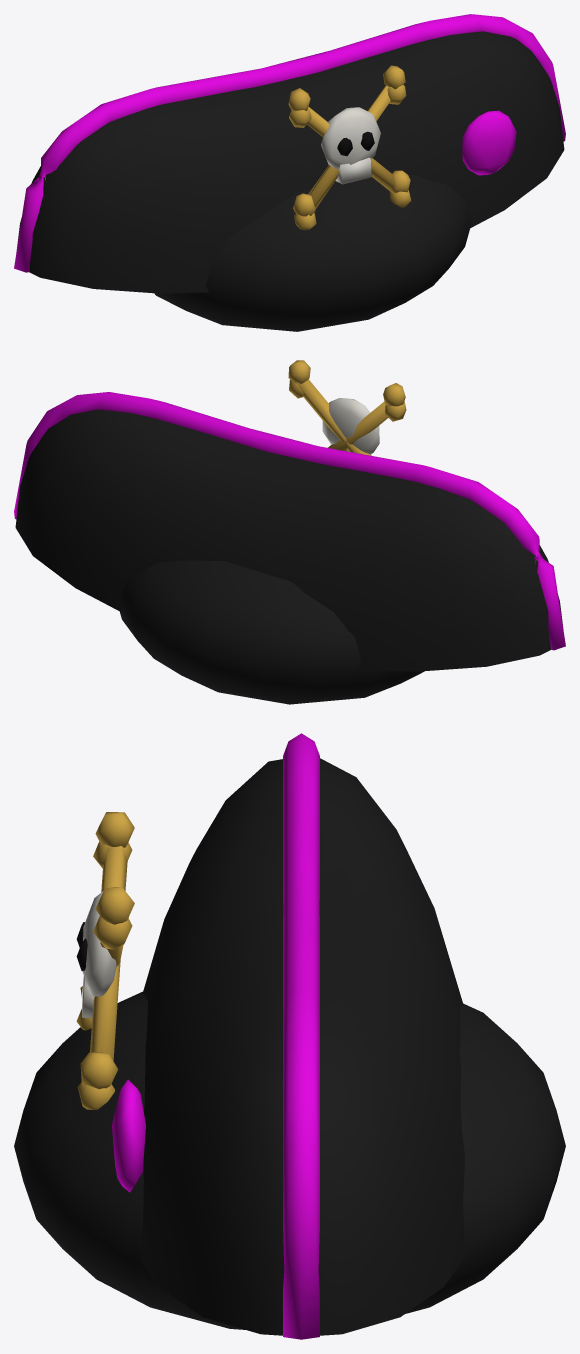
Rendered from hat_bicorne_male_lo.glb.
3 views of the same model, one above another, from view 1: azimuth 30°, elevation 25°; view 2: azimuth 150°, elevation 25°; view 3: azimuth 270°, elevation 25° (orthographic). The views are drawn at different scales.
Parts seen in each view (by area): view 1: hat_bicorne_v5_male; view 2: hat_bicorne_v5_male; view 3: hat_bicorne_v5_male.
Boxes of the visible parts, x1,y1,x2,y2 form: hat_bicorne_v5_male: [14, 14, 565, 331]; hat_bicorne_v5_male: [14, 360, 565, 704]; hat_bicorne_v5_male: [14, 733, 565, 1339].
Bounding box in the file's own units: 1.14 × 0.5221 × 0.6016.
